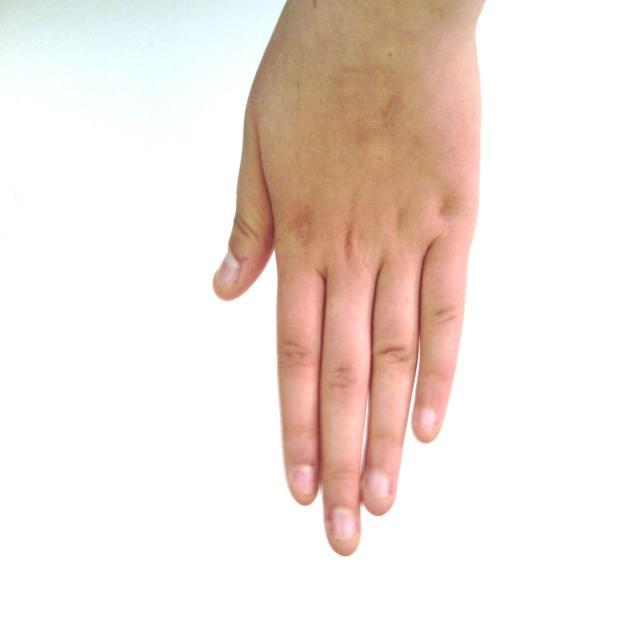Fingernail: (331, 508, 356, 541), (217, 255, 239, 288), (366, 471, 389, 498), (293, 466, 314, 495), (418, 408, 436, 433)
